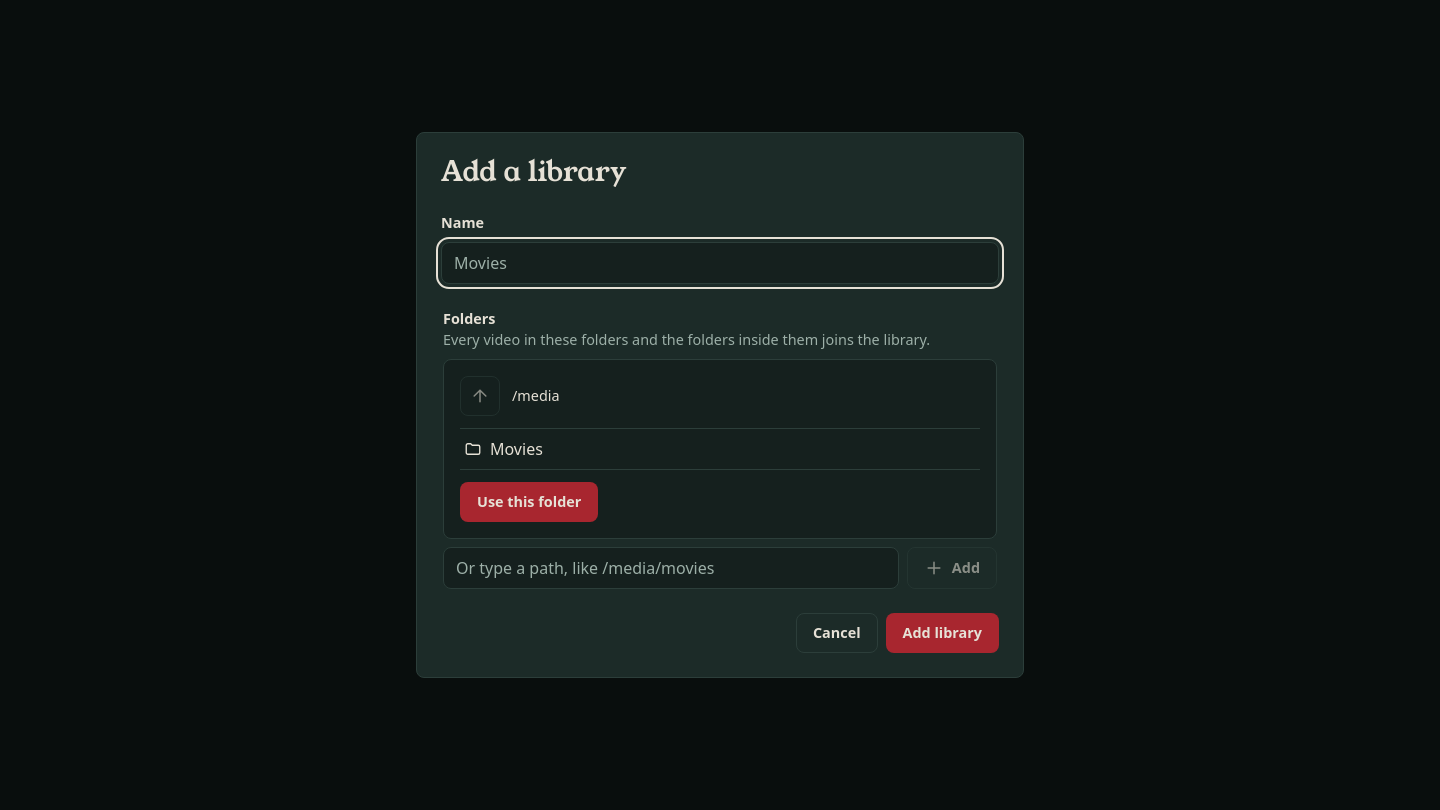
Scenario: LibraryDialog › shows every problem before sending anything
Click the button "Add library" at (942, 633), box left=886, top=613, right=999, bottom=653
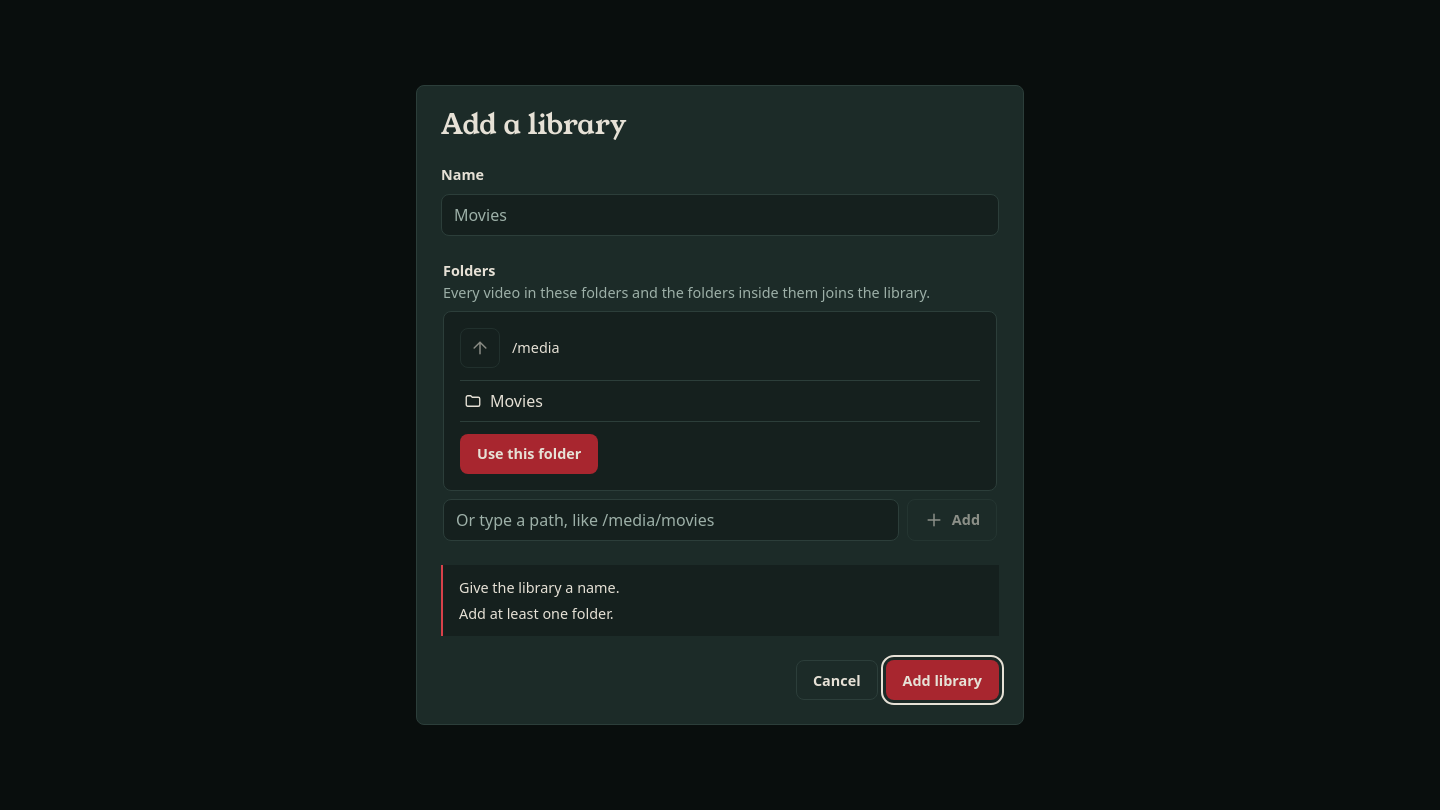
Expected: the message shows "Give the library a name.", left=459, top=578, right=620, bottom=597
Expected: the message shows "Add at least one folder.", left=459, top=604, right=614, bottom=623
